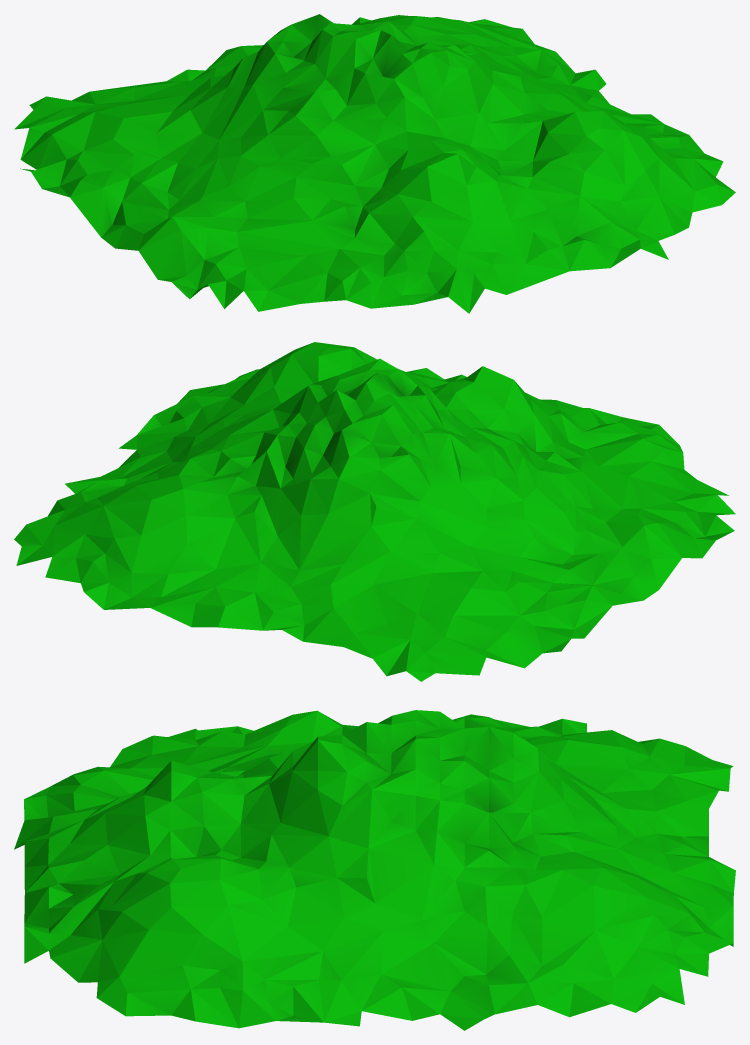
File: Mountain5AO.fbx
3 renders of one model, top to bottom at view 1: azimuth 30°, elevation 25°; view 2: azimuth 150°, elevation 25°; view 3: azimuth 270°, elevation 25°, orthographic. The views are drawn at different scales.
Parts seen in each view (by area): view 1: Mountain_05; view 2: Mountain_05; view 3: Mountain_05.
Boxes of the visible parts, left/top/right/bottom form: Mountain_05: left=14, top=14, right=735, bottom=313; Mountain_05: left=14, top=342, right=735, bottom=681; Mountain_05: left=14, top=710, right=735, bottom=1030.
Size of the model in its own units: 14154 by 3744 by 14396.
